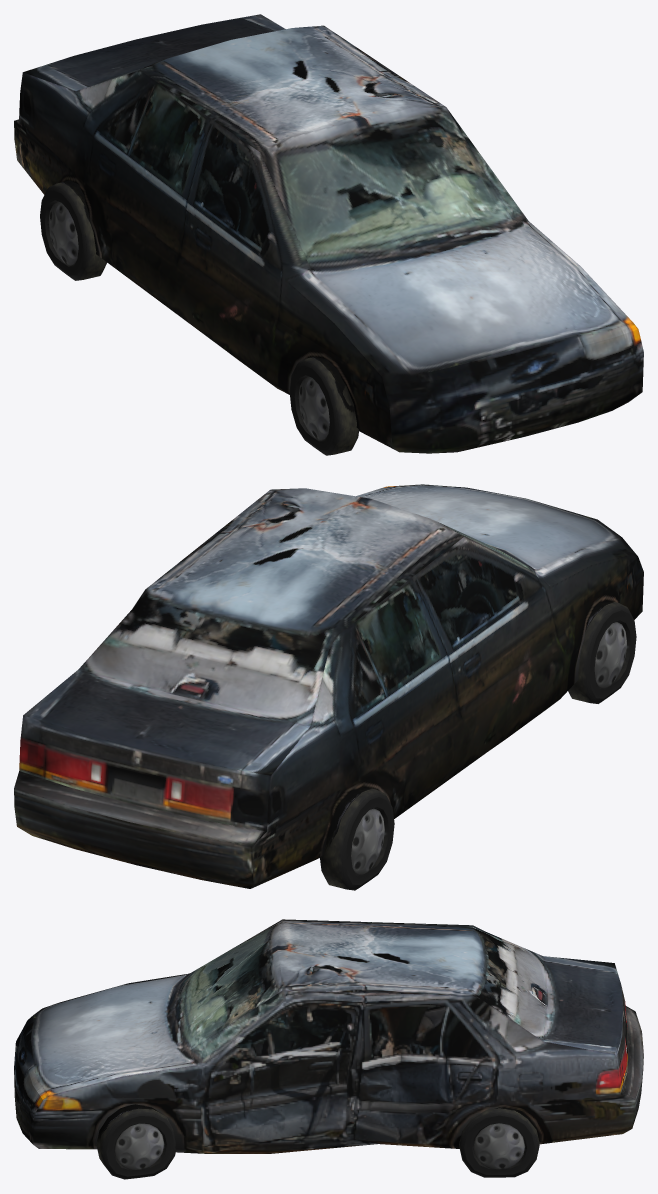
File: car.fbx
3 views of the same model, one above another, from view 1: azimuth 30°, elevation 25°; view 2: azimuth 150°, elevation 25°; view 3: azimuth 270°, elevation 25° (orthographic). The views are drawn at different scales.
Parts seen in each view (by area): view 1: car; view 2: car; view 3: car.
Part boxes in pixels (box(x1,y1,x2,y2)): car: box(14, 14, 643, 455); car: box(14, 484, 643, 890); car: box(14, 919, 643, 1179).
Bounding box in the file's own units: 143 × 102 × 326.
1 material, 1 textured.
